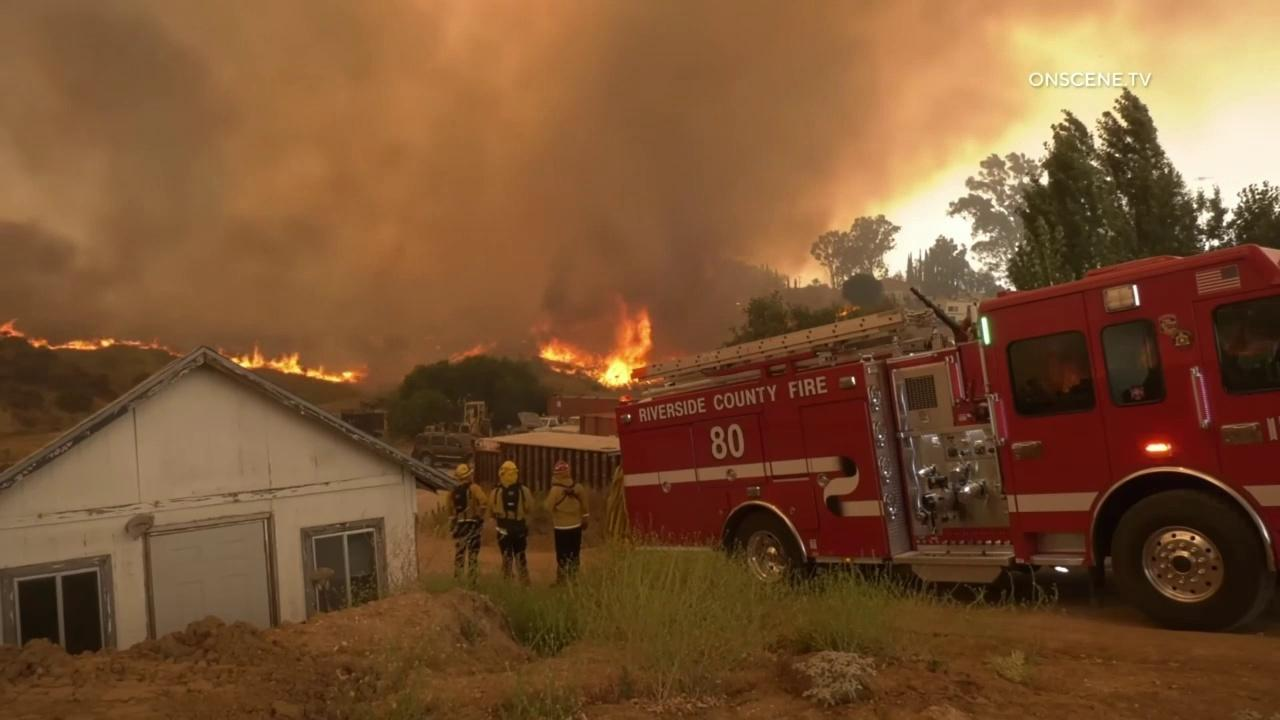fire: (532, 292, 654, 391), (0, 315, 192, 358), (213, 336, 372, 385), (447, 341, 496, 364)
smoke: (0, 0, 1280, 391)
